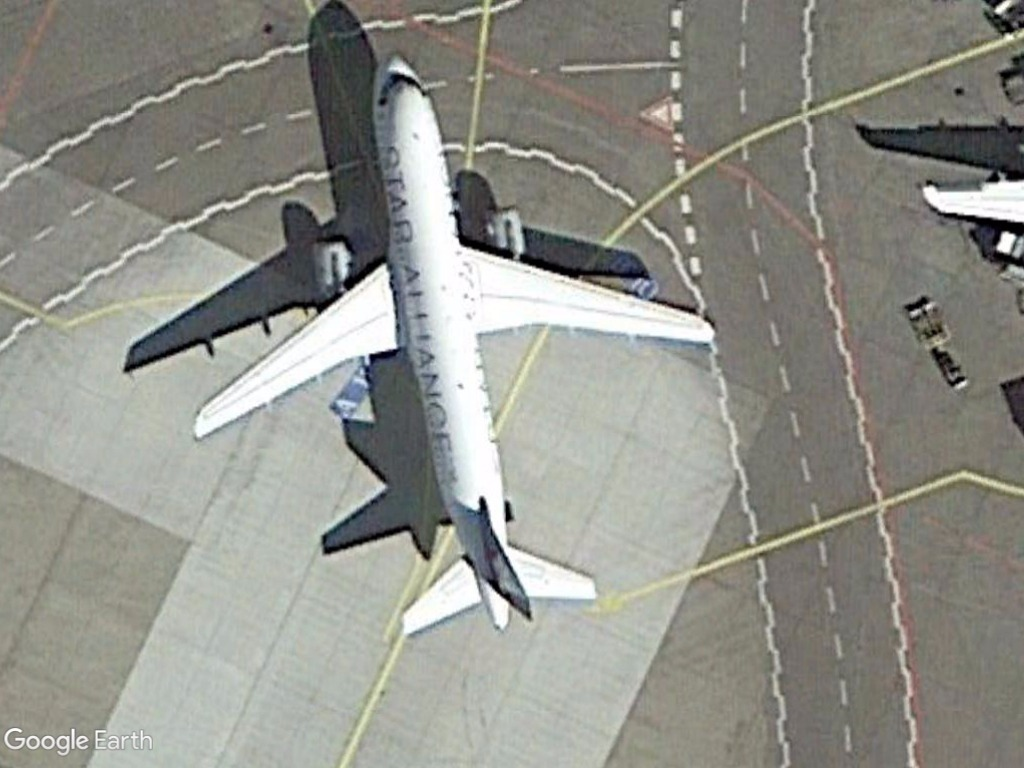airliner: (186, 55, 724, 647)
